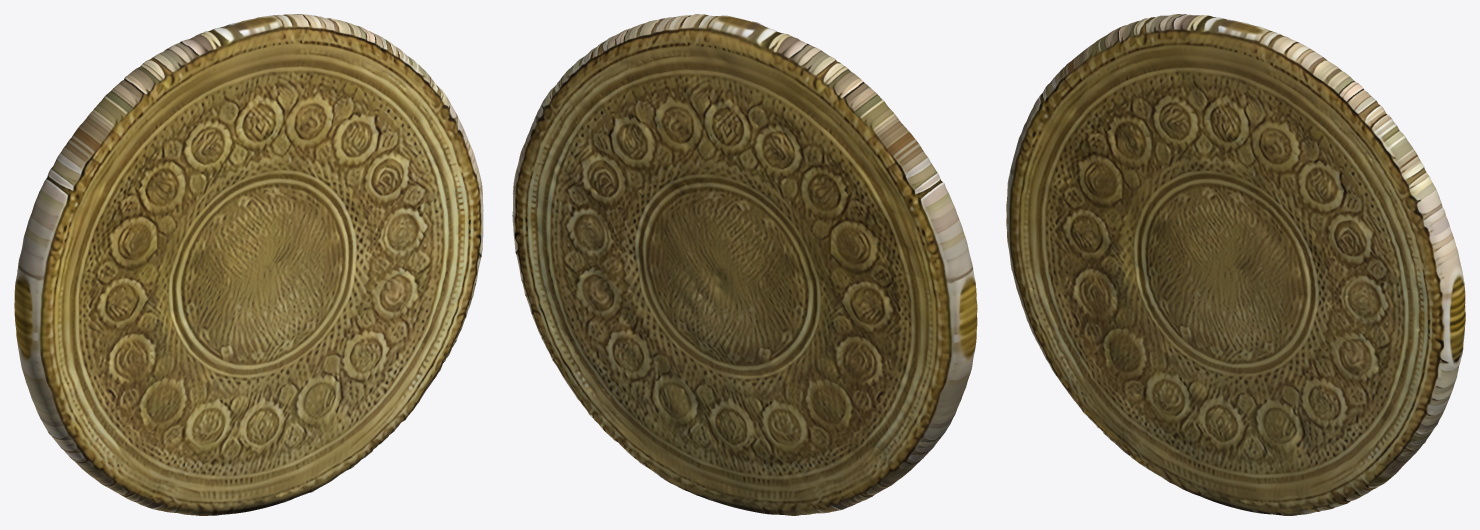
The model's file is kfl-2314.glb.
3 renders of one model, left to right at view 1: azimuth 30°, elevation 25°; view 2: azimuth 150°, elevation 25°; view 3: azimuth 330°, elevation 25°, orthographic.
Visible parts, largest first — view 1: kfl-2314; view 2: kfl-2314; view 3: kfl-2314.
Boxes of the visible parts, x1,y1,x2,y2 form: kfl-2314: (14,14,483,515); kfl-2314: (512,14,977,515); kfl-2314: (1006,14,1465,515).
Bounding box in the file's own units: 0.9781 × 0.9931 × 0.1263.
Materials: 1 (1 with a texture image).
